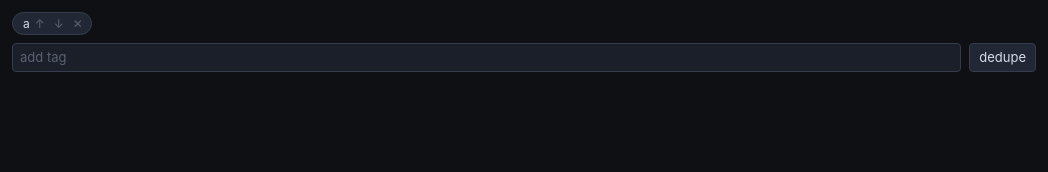
Test: TagChipEditor › adds a tag via the input on Enter
In the field with placeholder "add tag": (487, 58) [12, 43, 961, 72], type "blue eyes"
Then press Enter
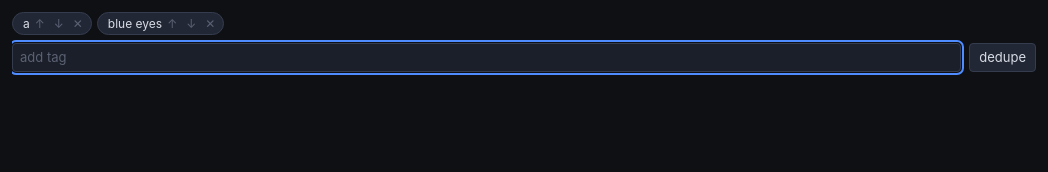
Result: the text "blue eyes" is shown at [108, 16, 162, 31]
